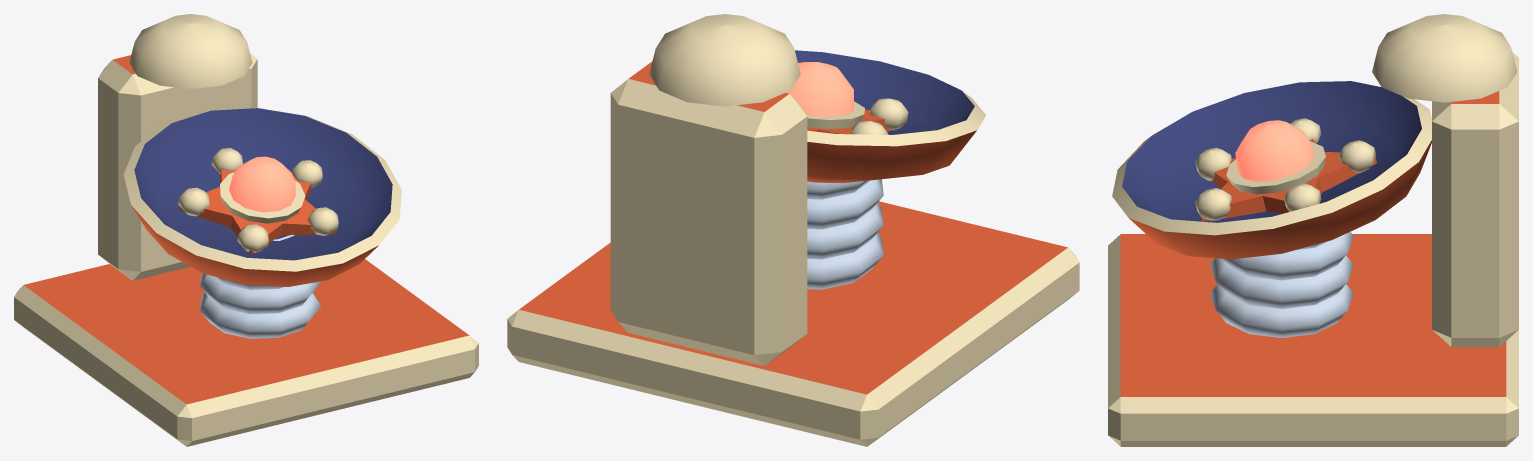
Rendered from R4X_ExplosiveTrapDeployer_LOD1.fbx.
The picture shows the model from 3 angles, left to right: view 1: azimuth 30°, elevation 25°; view 2: azimuth 150°, elevation 25°; view 3: azimuth 270°, elevation 25°; orthographic projection. The views are drawn at different scales.
Visible parts, largest first — view 1: R4X_ExplosiveTrapDeployer_LOD1; view 2: R4X_ExplosiveTrapDeployer_LOD1; view 3: R4X_ExplosiveTrapDeployer_LOD1.
Boxes of the visible parts, <box> form: R4X_ExplosiveTrapDeployer_LOD1: <box>14,14,478,446</box>; R4X_ExplosiveTrapDeployer_LOD1: <box>507,14,1079,446</box>; R4X_ExplosiveTrapDeployer_LOD1: <box>1108,14,1518,446</box>.
Size of the model in its own units: 0.52 by 0.476 by 0.52.
